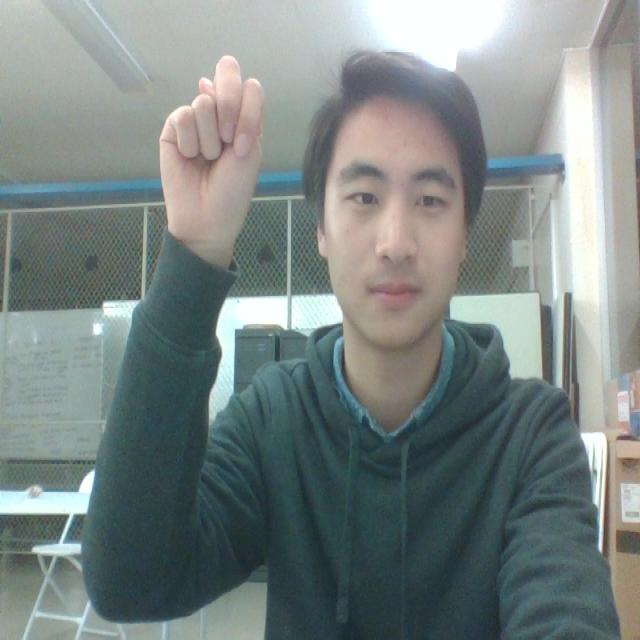N: (138, 39, 284, 259)
